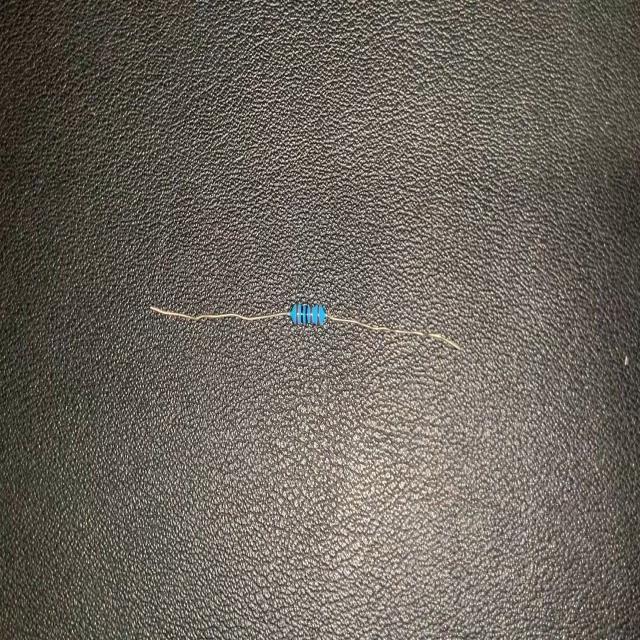resistor: (145, 288, 466, 368)
